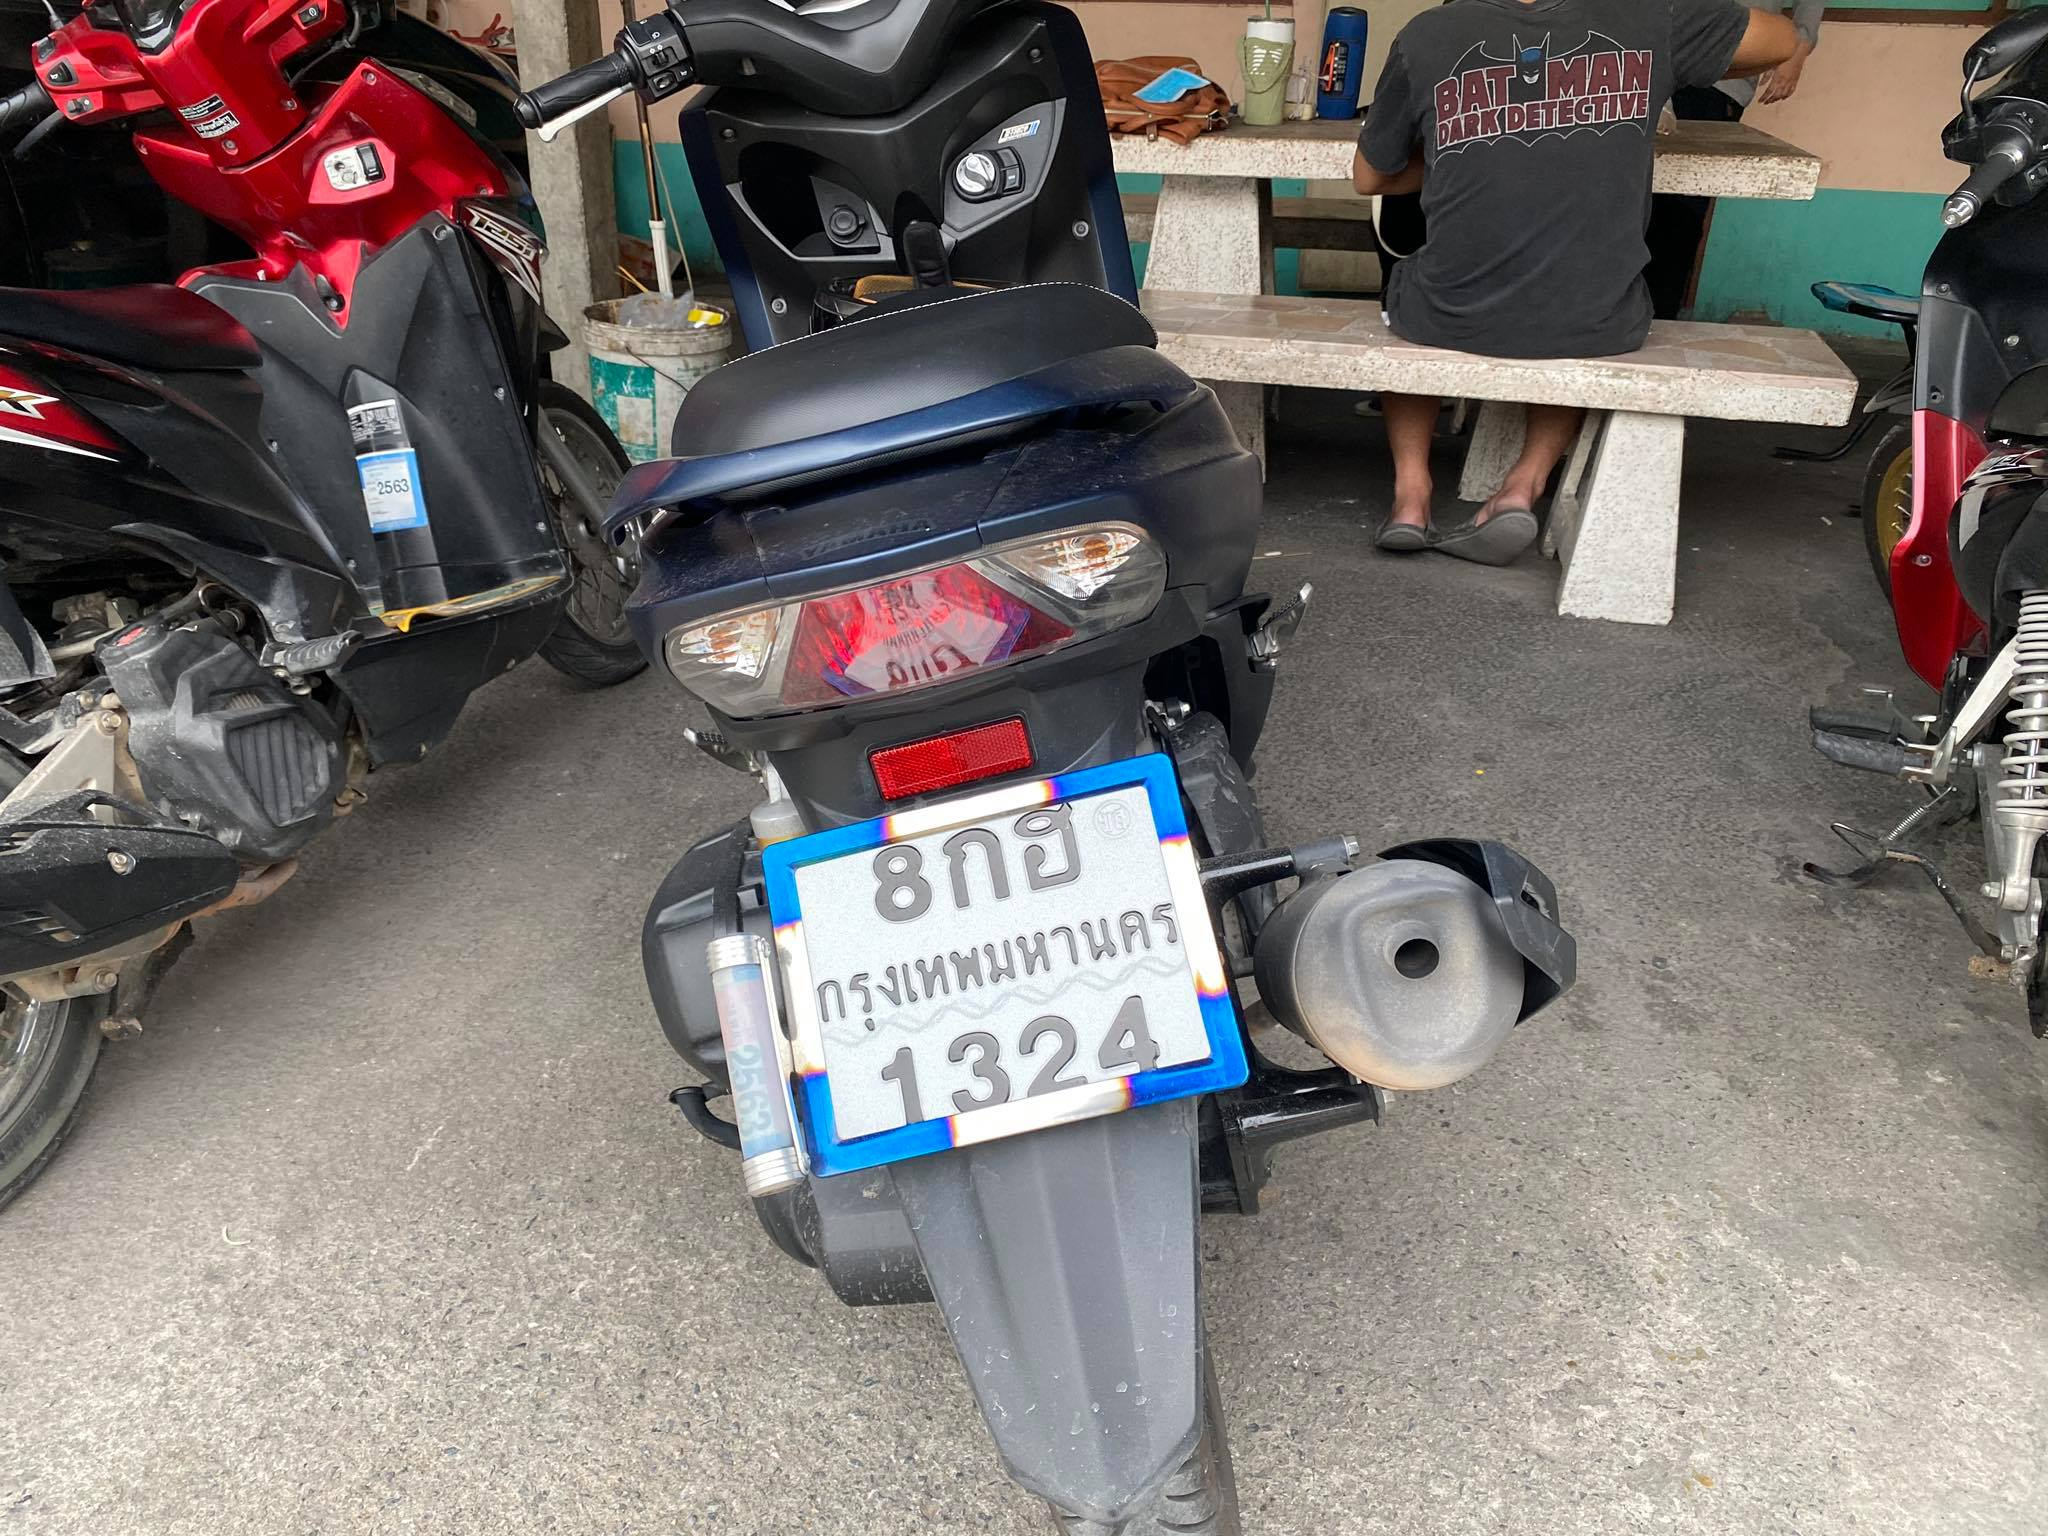line1: (864, 800, 1080, 925)
line2: (816, 900, 1188, 1033)
line3: (876, 992, 1164, 1133)
